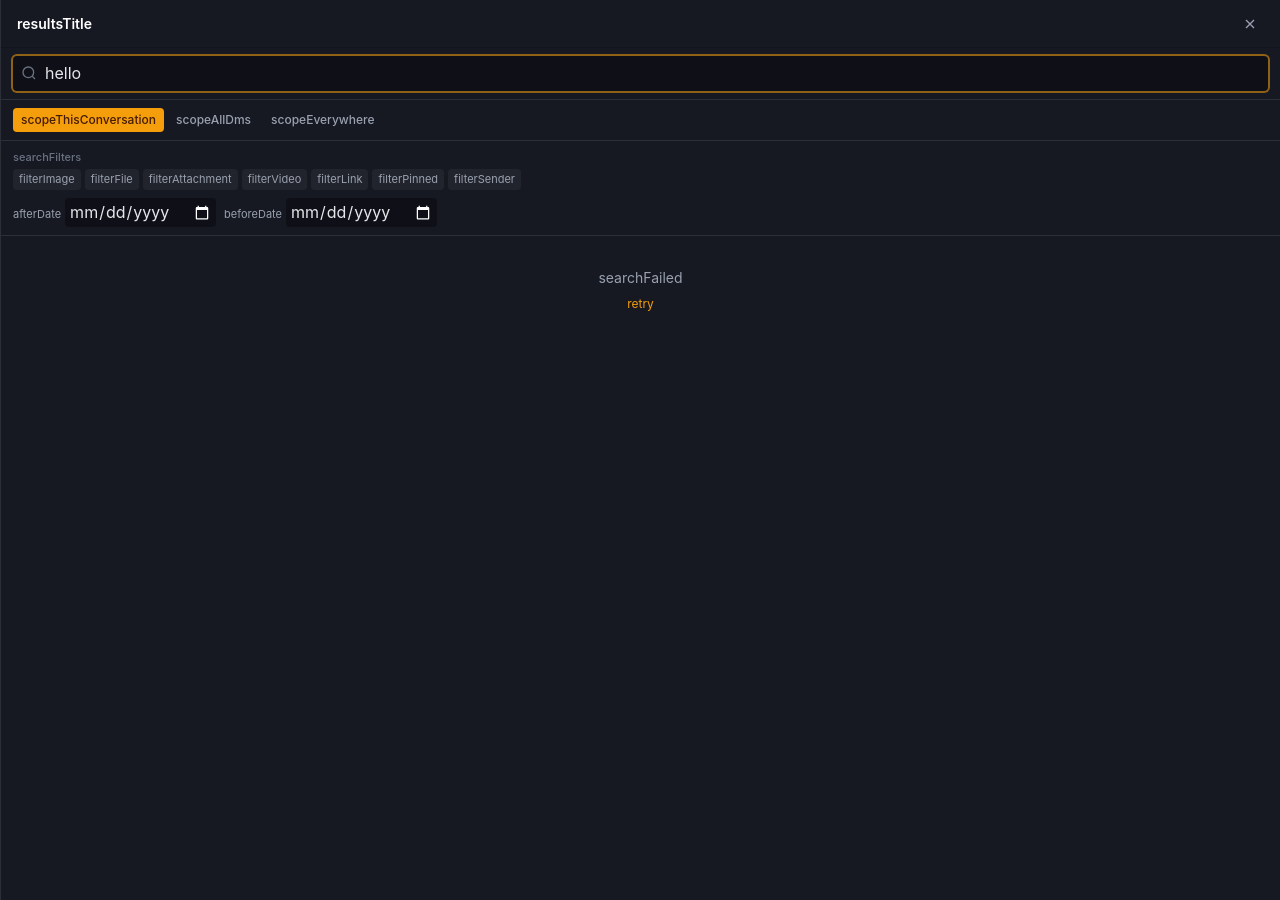
retries a failed request with the same conversation scope
Expected: the message "searchFailed retry" is shown, [598,269,683,312]
Click the button "retry" at (640, 304), box [627,296,654,312]
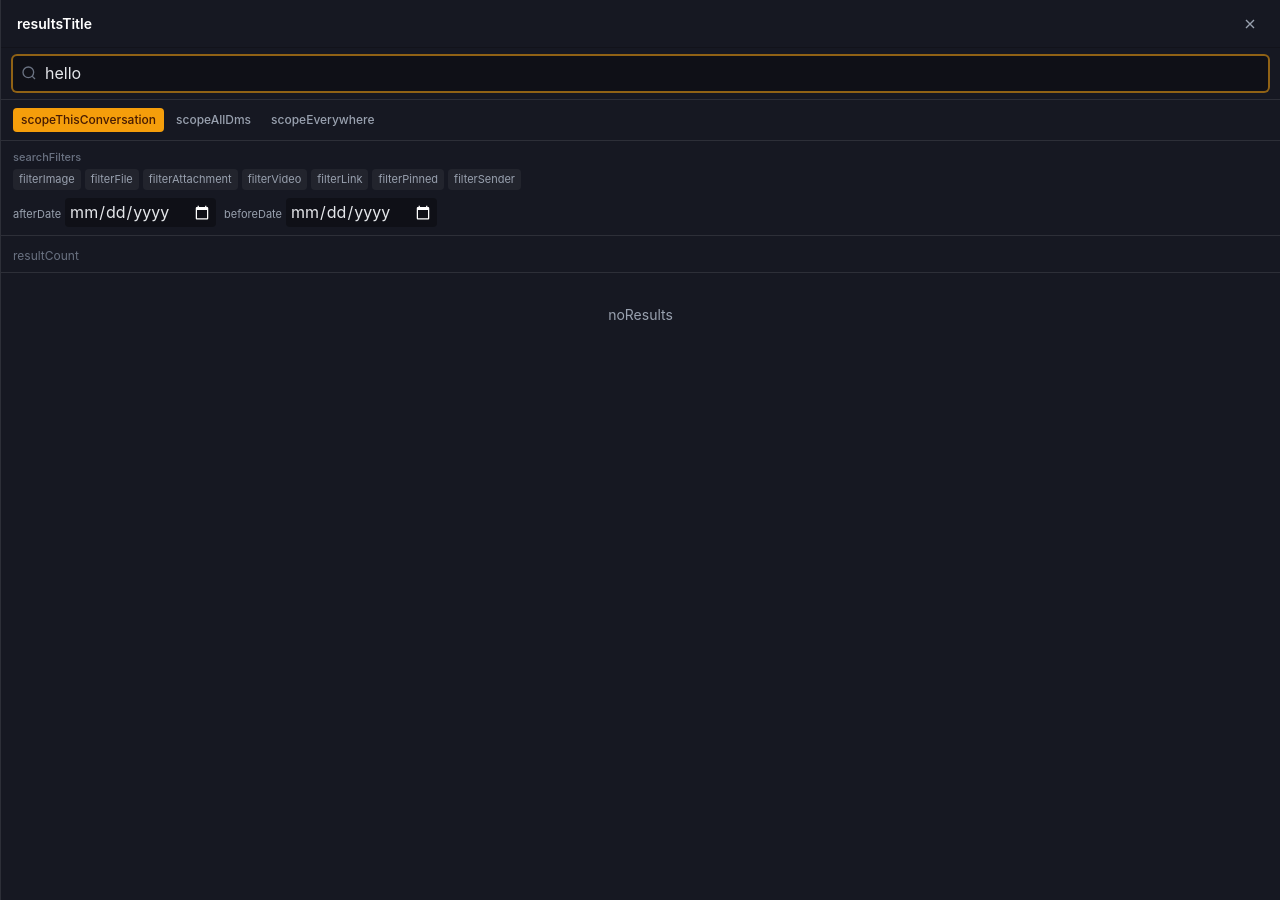
Now the message "searchFailed retry" is gone
